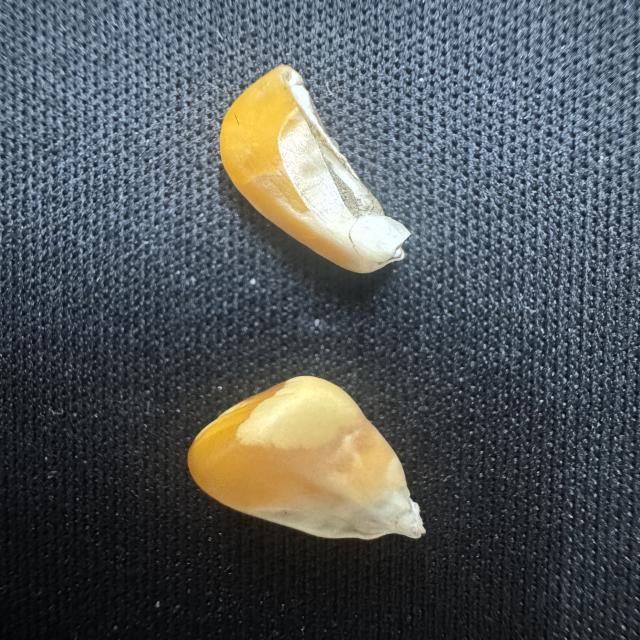Bad-Seed: (211, 59, 420, 279), (177, 370, 435, 548)
